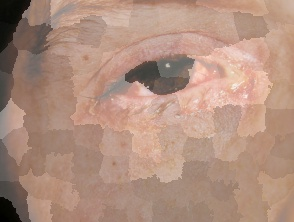SJS-TEN: (9, 0, 294, 222)
